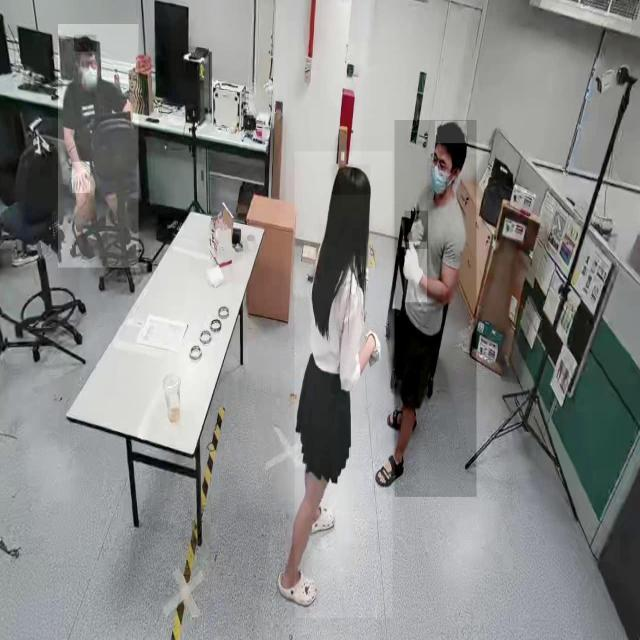face_mask: (427, 158, 447, 200), (78, 66, 98, 84)
hand_glove: (405, 242, 427, 302), (404, 211, 428, 249)
hand_noglove: (72, 162, 90, 194)
head_nohelmet: (331, 164, 371, 196), (435, 121, 467, 144), (74, 34, 97, 52)
person: (295, 151, 393, 619), (395, 120, 477, 498), (58, 24, 139, 268)
